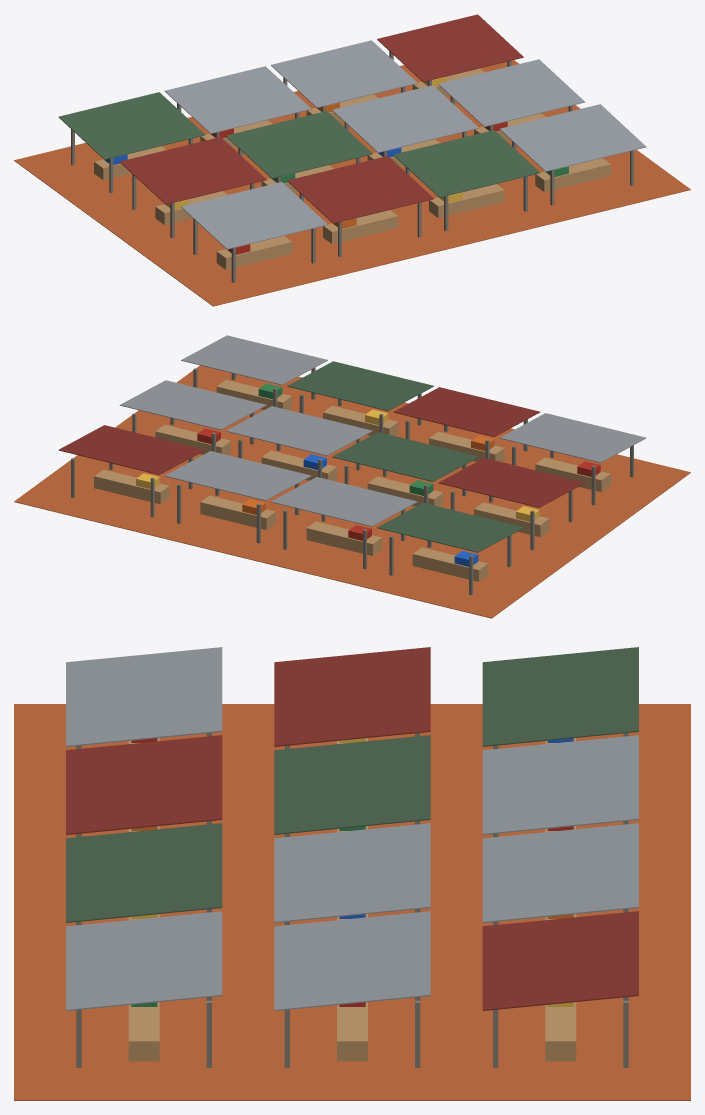
File: marche_africain.glb
3 views of the same model, one above another, from view 1: azimuth 30°, elevation 25°; view 2: azimuth 150°, elevation 25°; view 3: azimuth 270°, elevation 25° (orthographic). The views are drawn at different scales.
Parts seen in each view (by area): view 1: marche_africain; view 2: marche_africain; view 3: marche_africain.
Boxes of the visible parts, bbox=[...] form: marche_africain: bbox=[14, 14, 690, 306]; marche_africain: bbox=[14, 335, 690, 618]; marche_africain: bbox=[14, 647, 690, 1100].
Size of the model in its own units: 36 by 3.47 by 26.
Materials: 1 (1 with a texture image).
